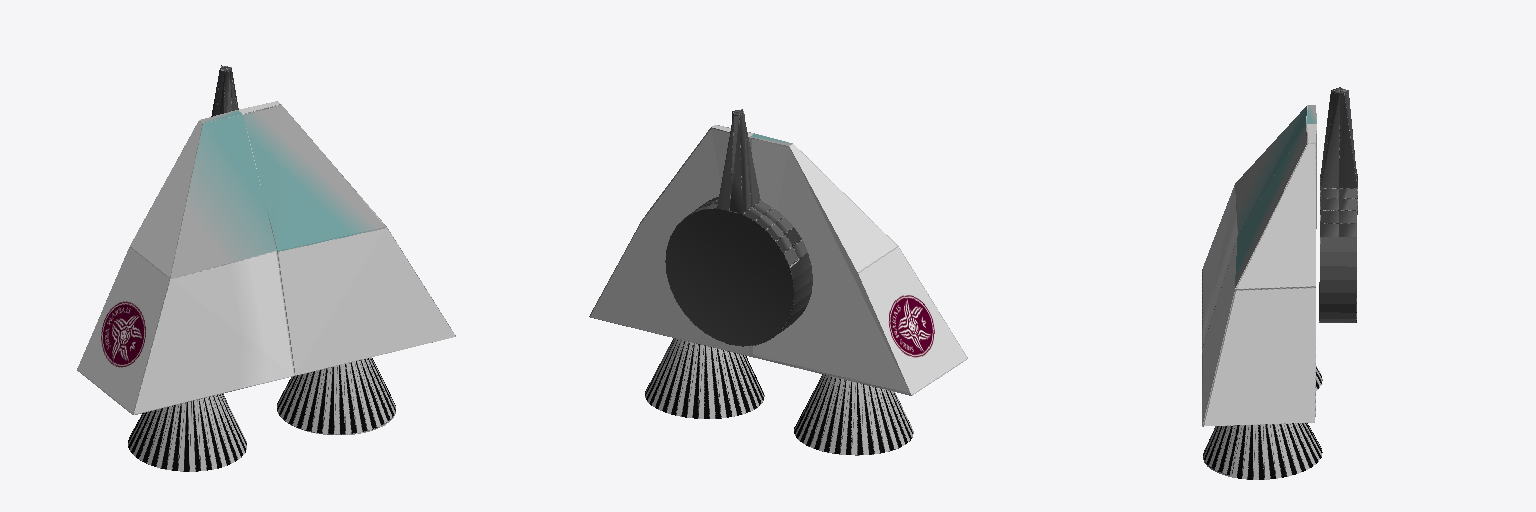
3 renders of one model, left to right at view 1: azimuth 30°, elevation 25°; view 2: azimuth 150°, elevation 25°; view 3: azimuth 270°, elevation 25°, orthographic.
Visible parts, largest first — view 1: ship_body_Cube, Left_rocket_Cone, Right_rocket_Cone.001, Cannon_Cylinder.001; view 2: ship_body_Cube, Cannon_Cylinder.001, Right_rocket_Cone.001, Left_rocket_Cone; view 3: ship_body_Cube, Cannon_Cylinder.001, Right_rocket_Cone.001.
Part boxes in pixels (x1,y1,x2,y2): ship_body_Cube: (77,101,455,414); Left_rocket_Cone: (128,394,246,471); Right_rocket_Cone.001: (277,357,395,434); Cannon_Cylinder.001: (211,65,238,116); ship_body_Cube: (589,125,967,395); Cannon_Cylinder.001: (665,109,812,346); Right_rocket_Cone.001: (645,338,764,418); Left_rocket_Cone: (794,374,913,455); ship_body_Cube: (1202,105,1316,426); Cannon_Cylinder.001: (1319,87,1357,322); Right_rocket_Cone.001: (1203,423,1322,479).
Bounding box in the file's own units: 3.08 × 3.01 × 1.28.
3 materials, 3 textured.